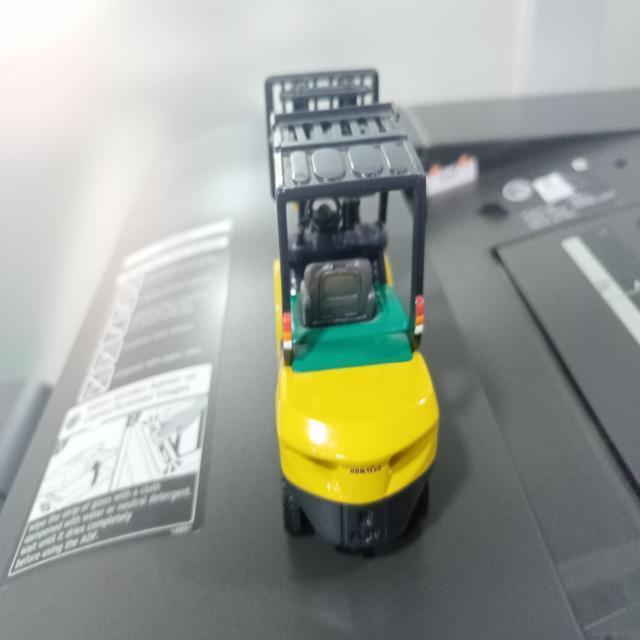forklift: (266, 77, 439, 538)
